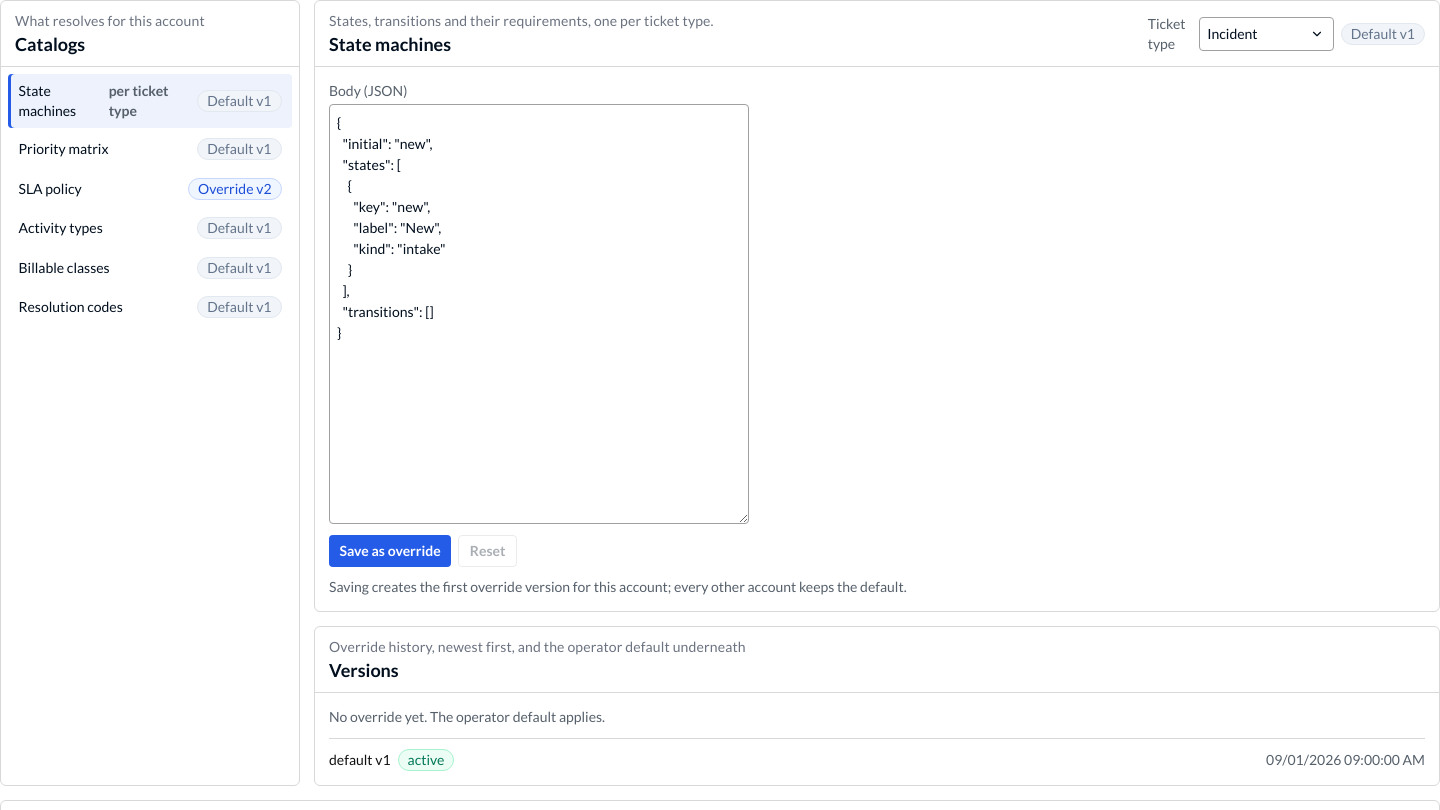
Scenario: AccountConfigTab › lists the six catalogs with their effective source, asks for the state machine with a scope, and switches scope
This screenshot has width=1440, height=810.
Expected: the text "Override v2" is shown, [188, 178, 282, 200]
Expected: the text "Default v1" is shown 5 times, [197, 90, 282, 112]; [197, 138, 282, 160]; [197, 217, 282, 239]; [197, 257, 282, 279]; [197, 296, 282, 318]
Select "Change" in the dropdown named "Scope" at {"x": 1266, "y": 34}, box [1199, 17, 1334, 51]
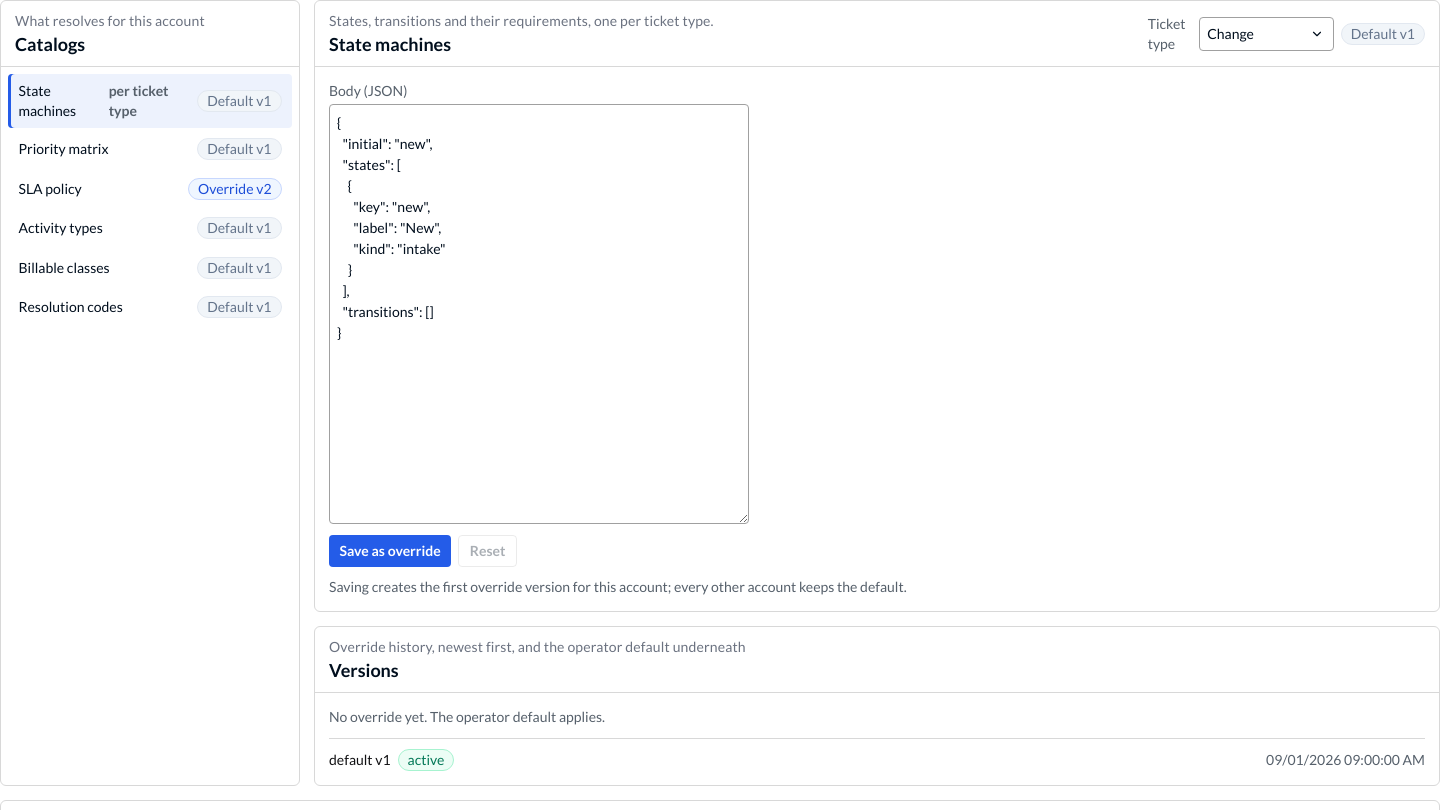
Click the button "Priority matrix Default v1".
click(63, 149)  # box [8, 131, 292, 167]
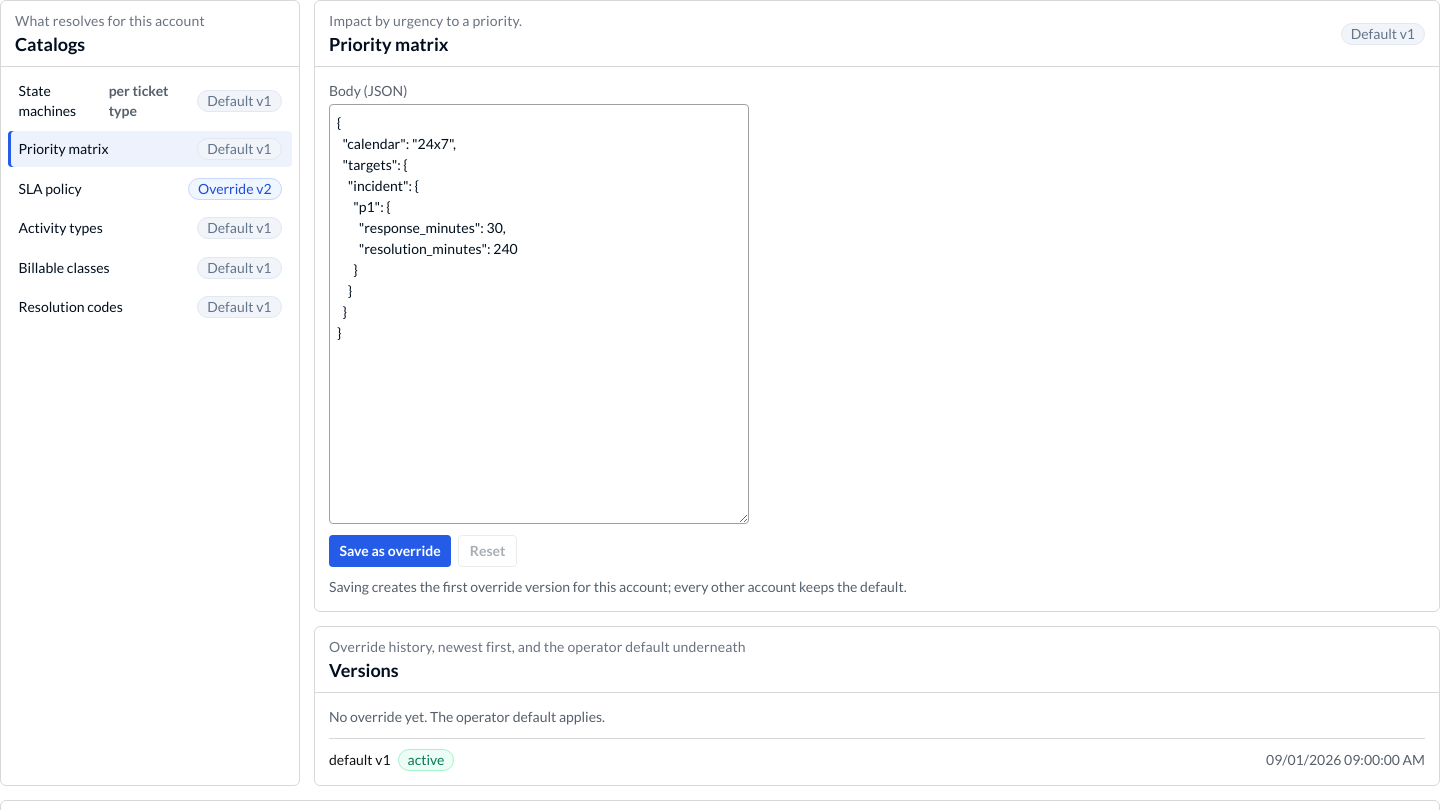
Expected: the dropdown labelled "Scope" is gone
